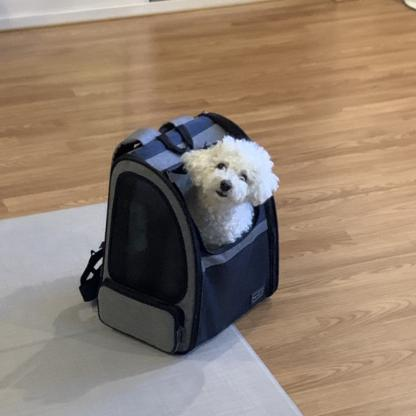dog: (180, 138, 288, 260)
